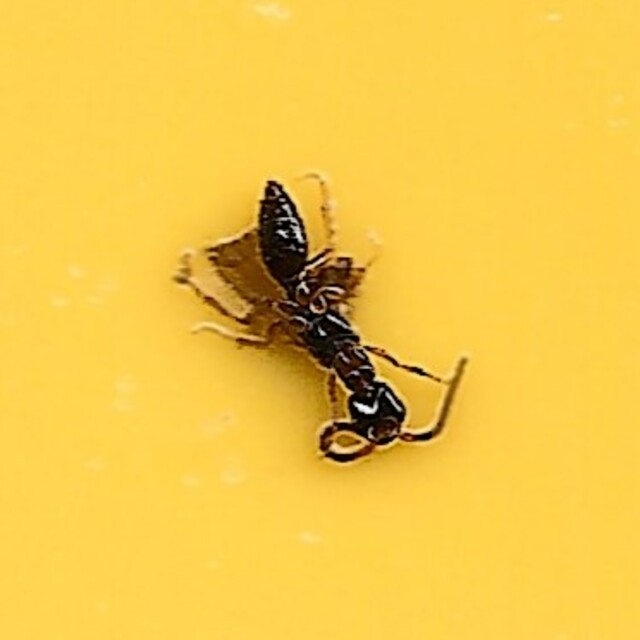Hymenoptera: (172, 174, 468, 466)
